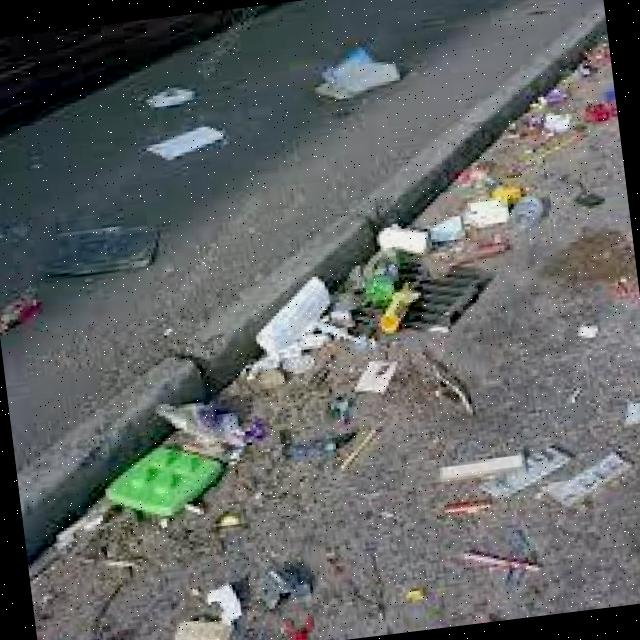curb: (344, 10, 601, 245), (175, 209, 386, 400), (20, 359, 206, 563)
